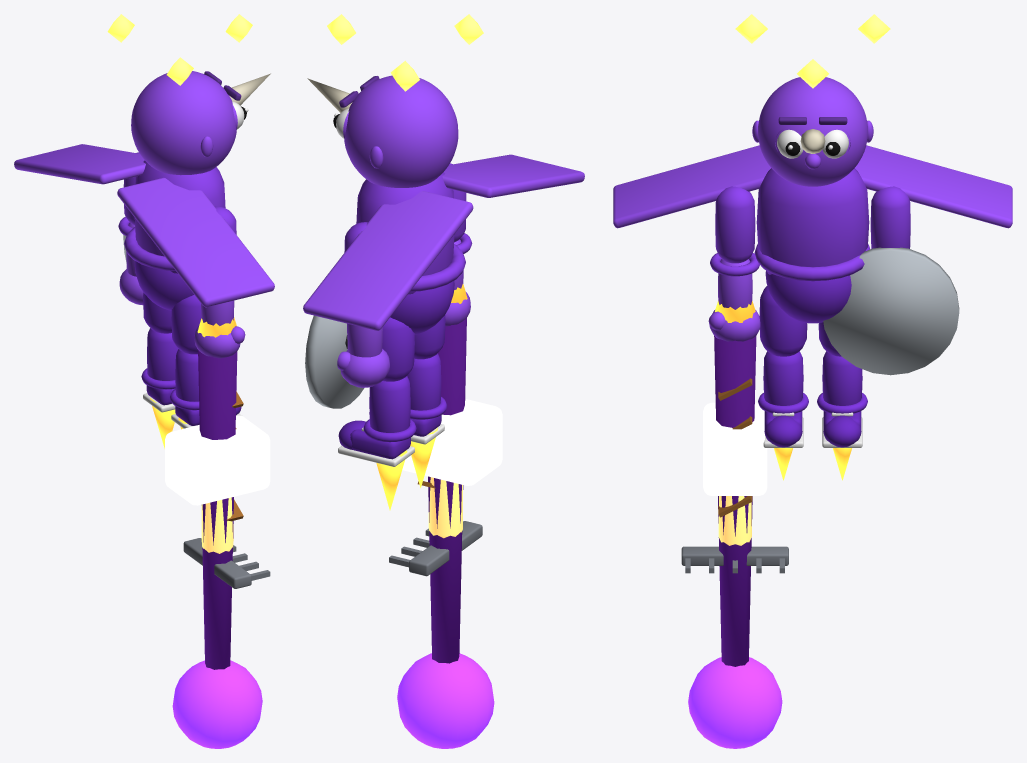
The model's file is gelatino.glb.
3 views of the same model, side by side, from view 1: azimuth 30°, elevation 25°; view 2: azimuth 150°, elevation 25°; view 3: azimuth 270°, elevation 25° (orthographic). The views are drawn at different scales.
Parts seen in each view (by area): view 1: wing0, skull, hammerHead, shadowArm, shadowFist, wing1, torso, pelvis, thigh, calf.001, baguette, calf (+12 smaller); view 2: wing1, skull, shadowFist, shadowArm, hammerHead, wing0, prop:lid, torso, calf.001, pelvis, thigh.001, calf (+16 smaller); view 3: prop:lid, torso, skull, shadowArm, shadowFist, wing0, wing1, hammerHead, pelvis, upperArm, upperArm.001, thigh (+9 smaller).
Part boxes in pixels (bbox=[...]): wing0: bbox=[117, 177, 274, 307]; skull: bbox=[131, 71, 236, 175]; hammerHead: bbox=[165, 415, 270, 505]; shadowArm: bbox=[198, 350, 237, 669]; shadowFist: bbox=[172, 660, 262, 748]; wing1: bbox=[14, 144, 145, 184]; torso: bbox=[134, 160, 225, 273]; pelvis: bbox=[134, 261, 193, 310]; thigh: bbox=[171, 295, 201, 354]; calf.001: bbox=[147, 328, 178, 380]; baguette: bbox=[201, 497, 233, 553]; calf: bbox=[175, 349, 199, 401]; wing1: bbox=[303, 191, 473, 330]; skull: bbox=[344, 75, 458, 187]; shadowFist: bbox=[397, 653, 494, 748]; shadowArm: bbox=[428, 318, 466, 663]; hammerHead: bbox=[402, 399, 502, 485]; wing0: bbox=[442, 154, 584, 197]; prop:lid: bbox=[305, 315, 364, 408]; torso: bbox=[356, 172, 454, 294]; calf.001: bbox=[369, 376, 410, 432]; pelvis: bbox=[390, 281, 454, 334]; thigh.001: bbox=[382, 317, 414, 381]; calf: bbox=[407, 353, 441, 410]; prop:lid: bbox=[823, 247, 959, 375]; torso: bbox=[756, 168, 869, 275]; skull: bbox=[758, 77, 867, 186]; shadowArm: bbox=[714, 336, 756, 666]; shadowFist: bbox=[688, 657, 782, 748]; wing0: bbox=[613, 145, 770, 228]; wing1: bbox=[855, 145, 1012, 228]; hammerHead: bbox=[703, 402, 767, 495]; pelvis: bbox=[765, 270, 851, 323]; upperArm: bbox=[715, 186, 755, 263]; upperArm.001: bbox=[870, 186, 910, 248]; thigh: bbox=[759, 286, 807, 356].
Size of the model in its own units: 0.9094 by 3.68 by 1.86.
